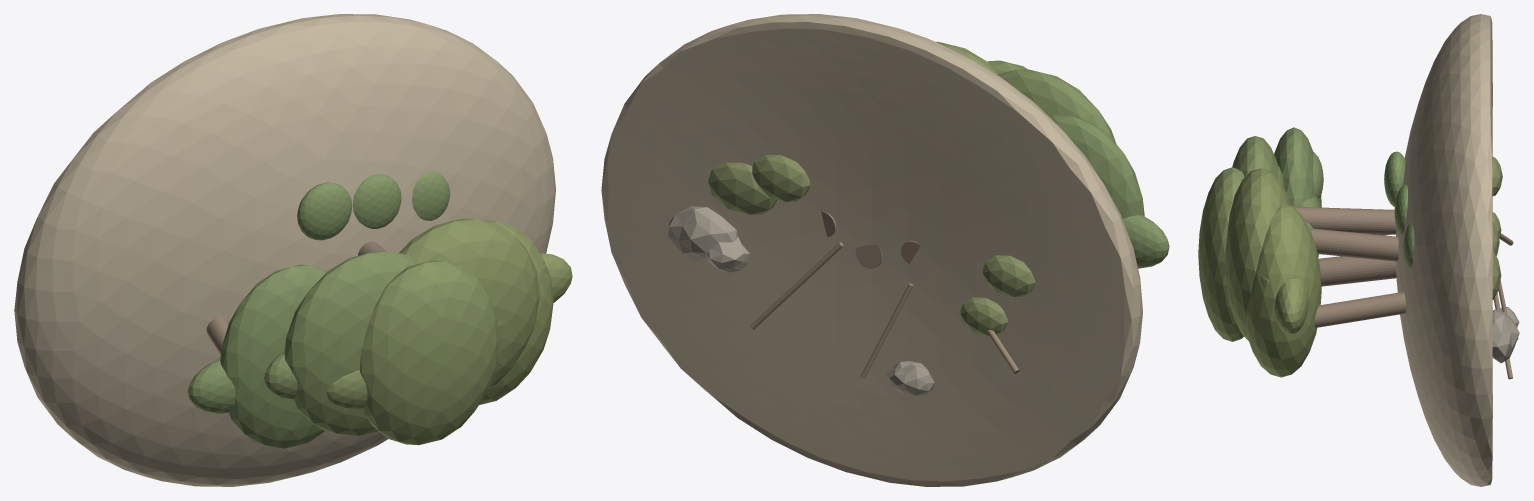
The model's file is el-pinar-de-liencres.glb.
3 views of the same model, side by side, from view 1: azimuth 30°, elevation 25°; view 2: azimuth 150°, elevation 25°; view 3: azimuth 270°, elevation 25° (orthographic). The views are drawn at different scales.
Parts seen in each view (by area): view 1: part_000, part_012, part_007, part_002, part_017, part_022, part_027, part_030, part_003, part_033, part_013, part_008 (+1 smaller); view 2: part_000, part_002, part_007, part_039, part_035, part_036, part_037, part_003, part_038, part_041, part_040, part_044; view 3: part_000, part_022, part_017, part_012, part_002, part_006, part_016, part_021, part_011, part_024, part_007, part_039 (+4 smaller).
Part boxes in pixels (x1,y1,x2,y2): part_000: (14, 14, 555, 486); part_012: (359, 260, 499, 445); part_007: (284, 251, 414, 435); part_002: (220, 265, 327, 448); part_017: (399, 218, 539, 388); part_022: (479, 220, 553, 404); part_027: (297, 182, 352, 240); part_030: (353, 174, 401, 228); part_003: (188, 358, 235, 413); part_033: (412, 172, 450, 220); part_013: (326, 370, 367, 409); part_008: (264, 351, 297, 400); part_000: (601, 14, 1142, 486); part_002: (1049, 115, 1144, 218); part_007: (998, 69, 1116, 143); part_039: (668, 206, 737, 261); part_035: (708, 162, 776, 214); part_036: (752, 155, 810, 201); part_037: (982, 255, 1035, 296); part_003: (1122, 215, 1169, 268); part_038: (960, 297, 1007, 335); part_041: (885, 361, 934, 395); part_040: (706, 236, 749, 272); part_044: (750, 242, 843, 329); part_000: (1396, 14, 1492, 486); part_022: (1246, 204, 1321, 377); part_017: (1225, 168, 1290, 340); part_012: (1198, 167, 1244, 341); part_002: (1274, 127, 1321, 256); part_006: (1293, 206, 1396, 234); part_016: (1310, 228, 1398, 261); part_021: (1314, 292, 1405, 327); part_011: (1318, 256, 1396, 286); part_024: (1274, 278, 1308, 334); part_007: (1232, 136, 1278, 177); part_039: (1492, 309, 1519, 363).
Bounding box in the file's own units: 3.6 × 2.9 × 2.06.
